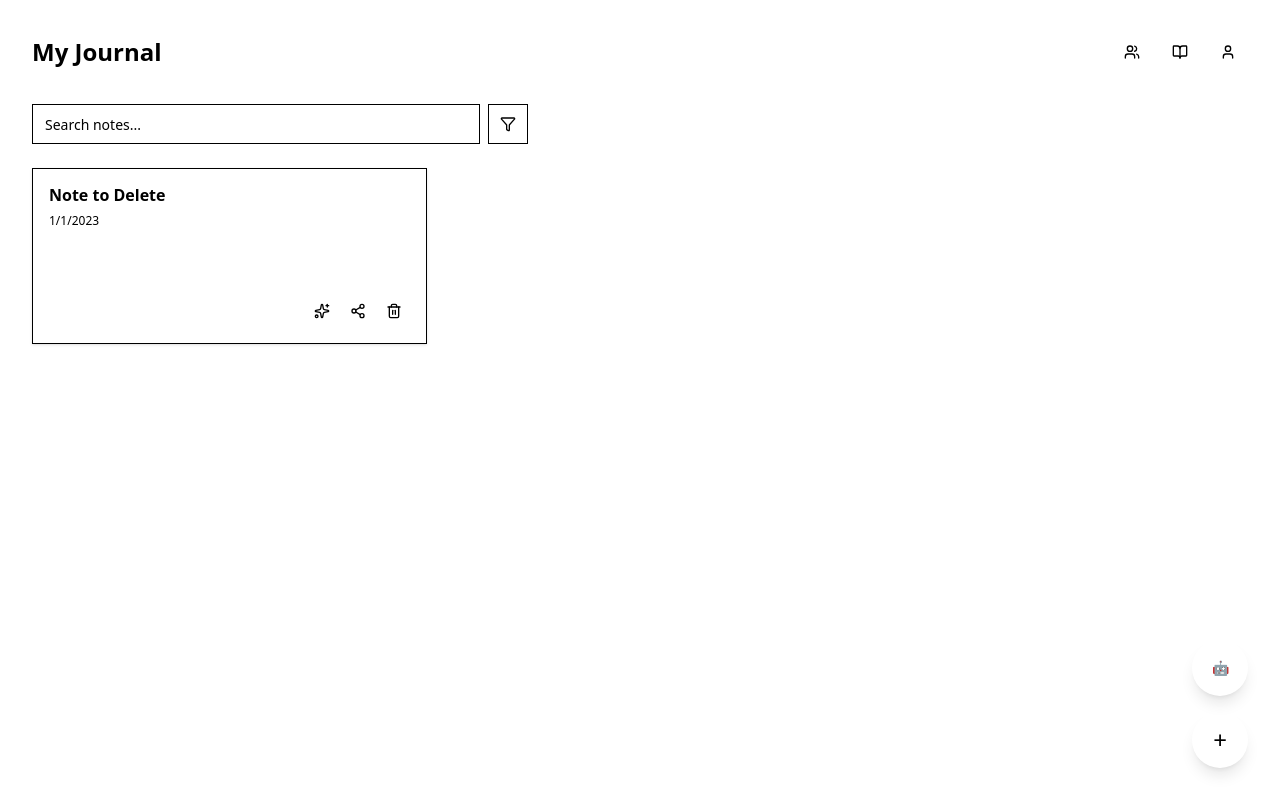
Test: Dashboard › deletes a note
Expected: the link "Note to Delete 1/1/2023" is shown, [32,168,427,344]
Click the button titled "Delete": [394, 311] box [378,295,410,327]
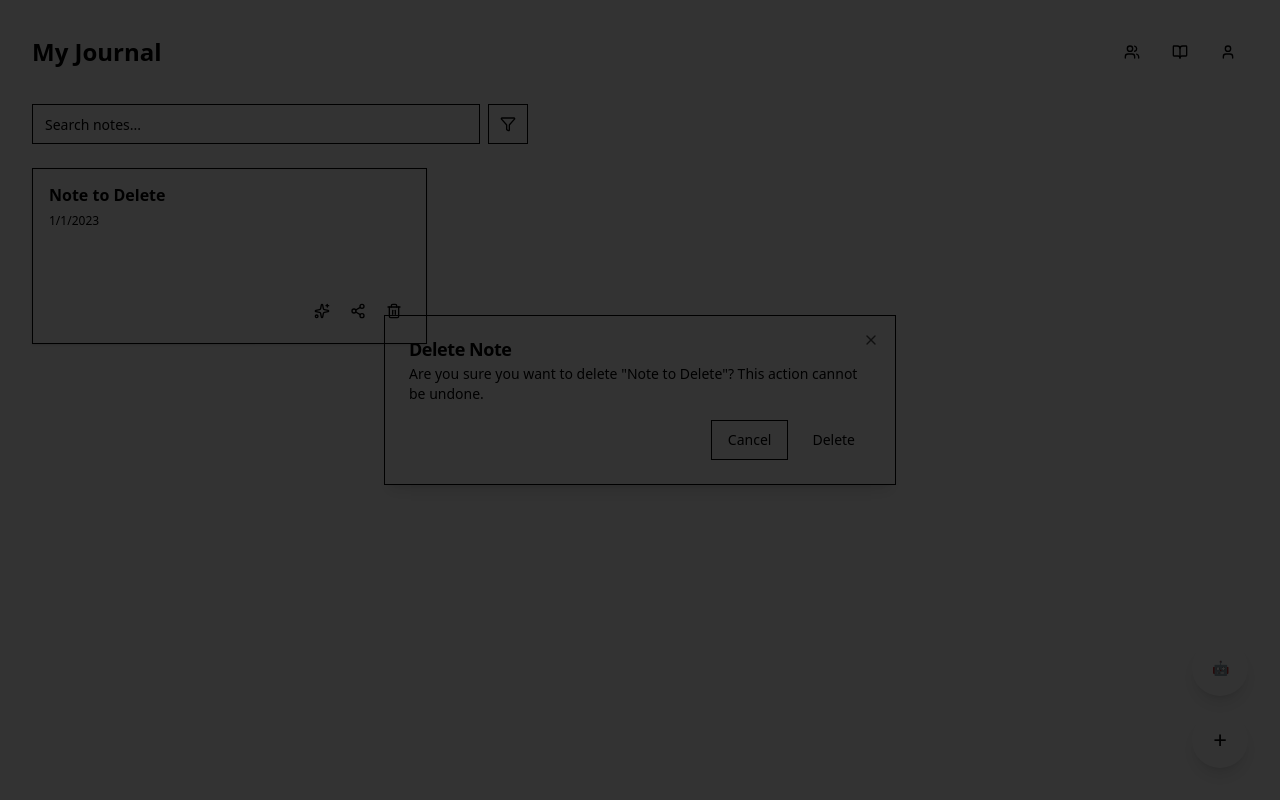
Now the heading "Delete Note" is shown, box [409,337,512,361]
Click the button "Delete": [834, 440] box [796,420,871,460]
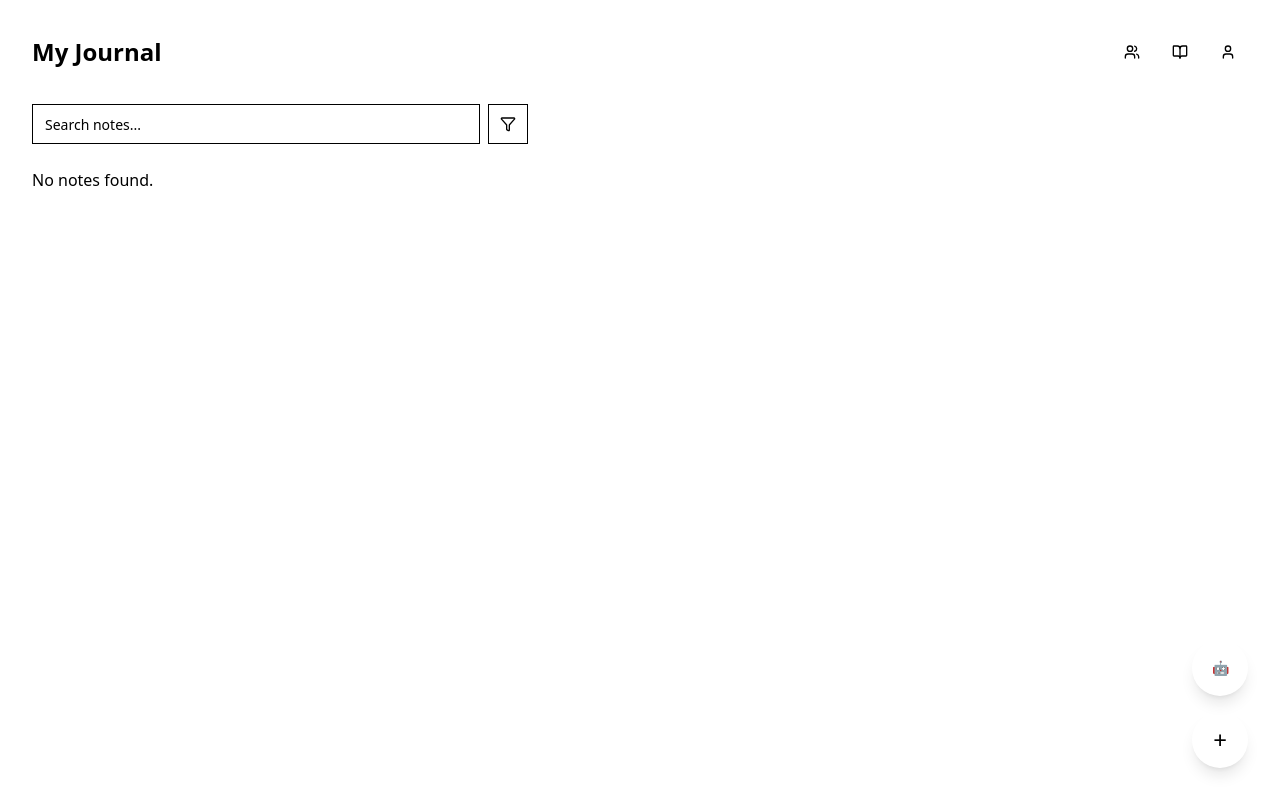
Now the link "Note to Delete" is gone
